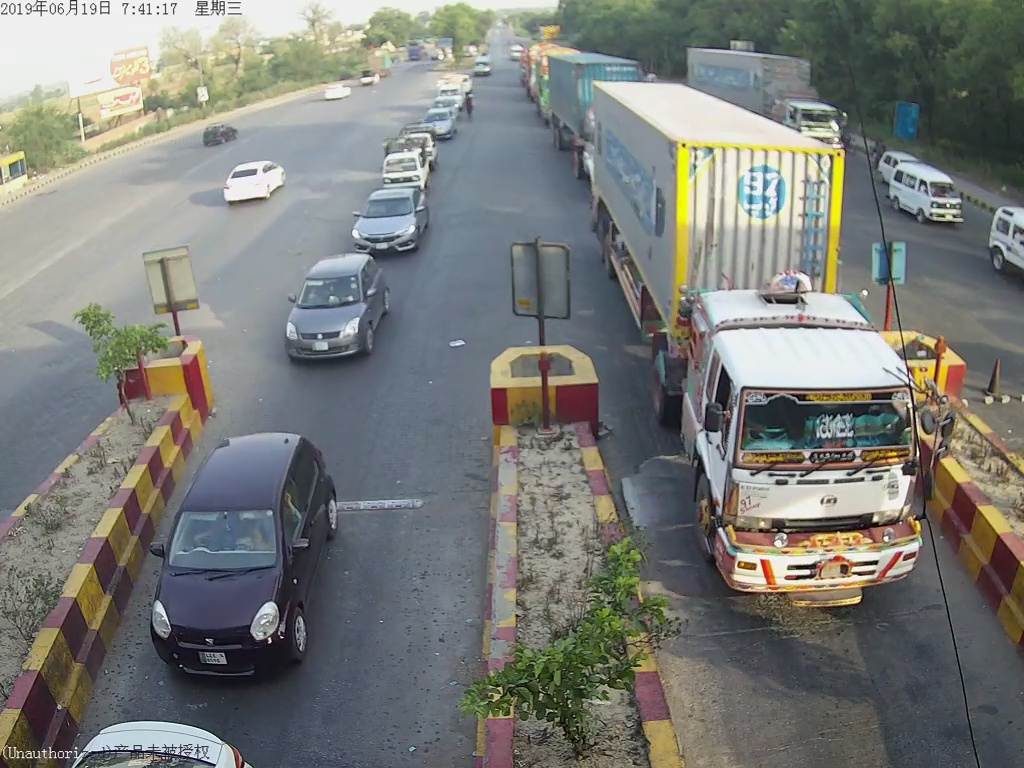Cat-1: (145, 431, 350, 671), (280, 253, 395, 375), (350, 190, 426, 253)
Cat-5: (590, 86, 943, 636)
